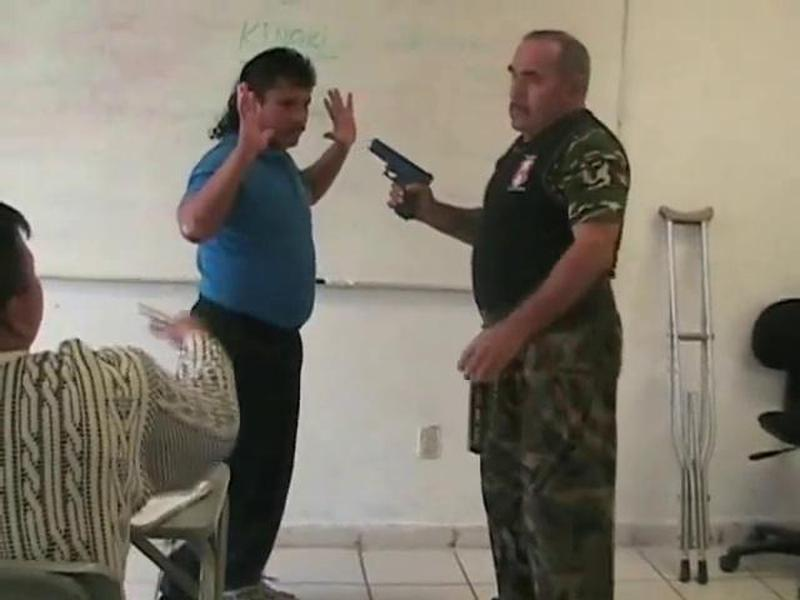Pistola: (357, 120, 438, 242)
